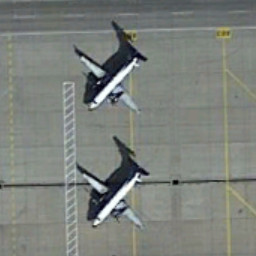Airplane: (68, 153, 159, 242), (70, 33, 149, 128)
